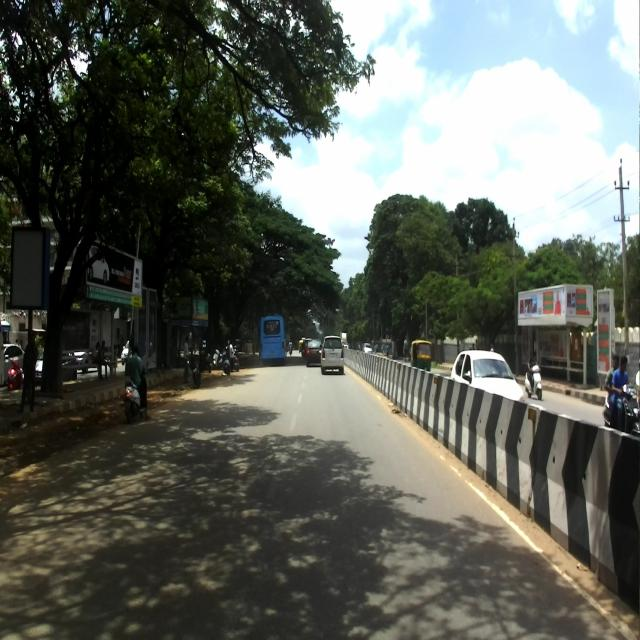Car_Toyota: (319, 334, 344, 377)
bus: (260, 312, 287, 364)
scooter: (123, 360, 150, 425)
